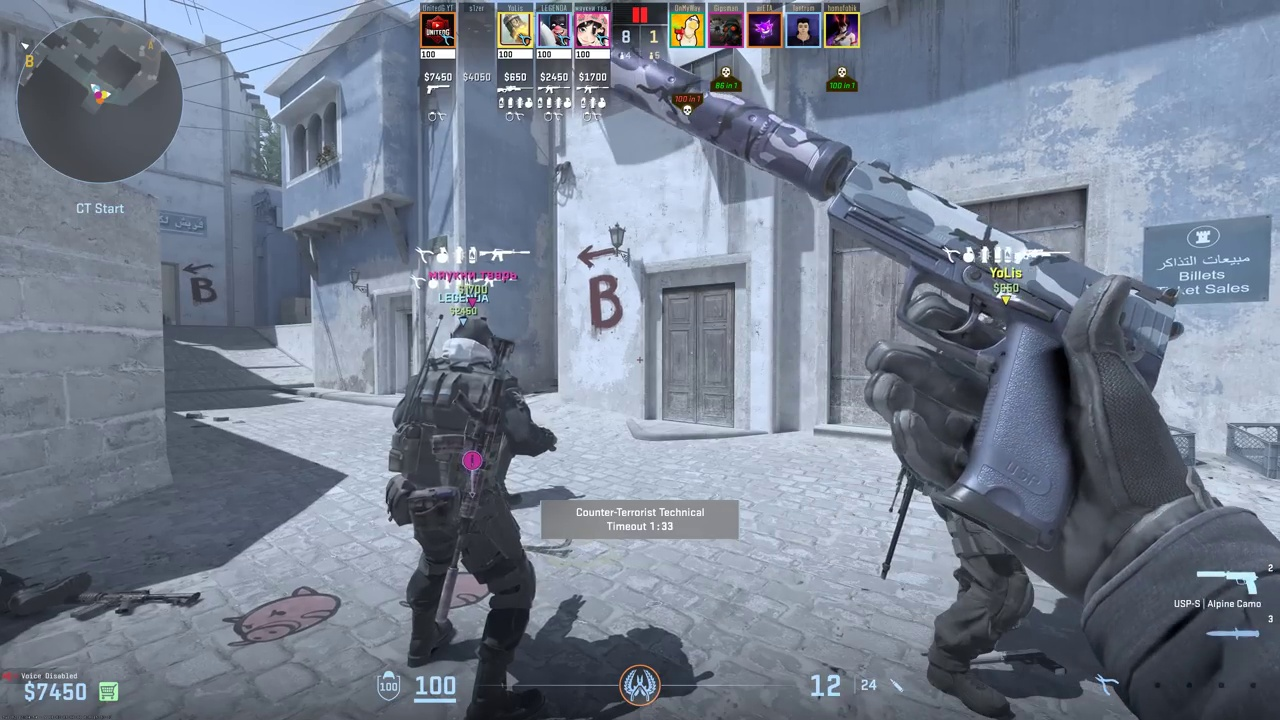CT: (398, 321, 550, 715)
